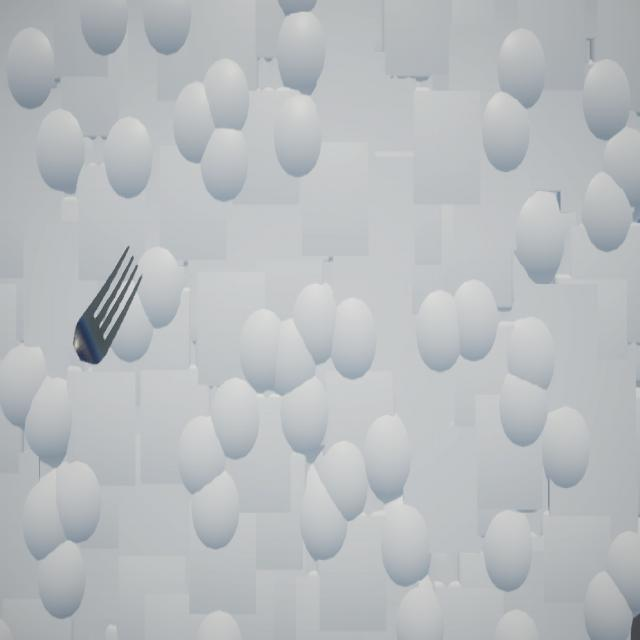top_folk: (74, 247, 144, 367)
